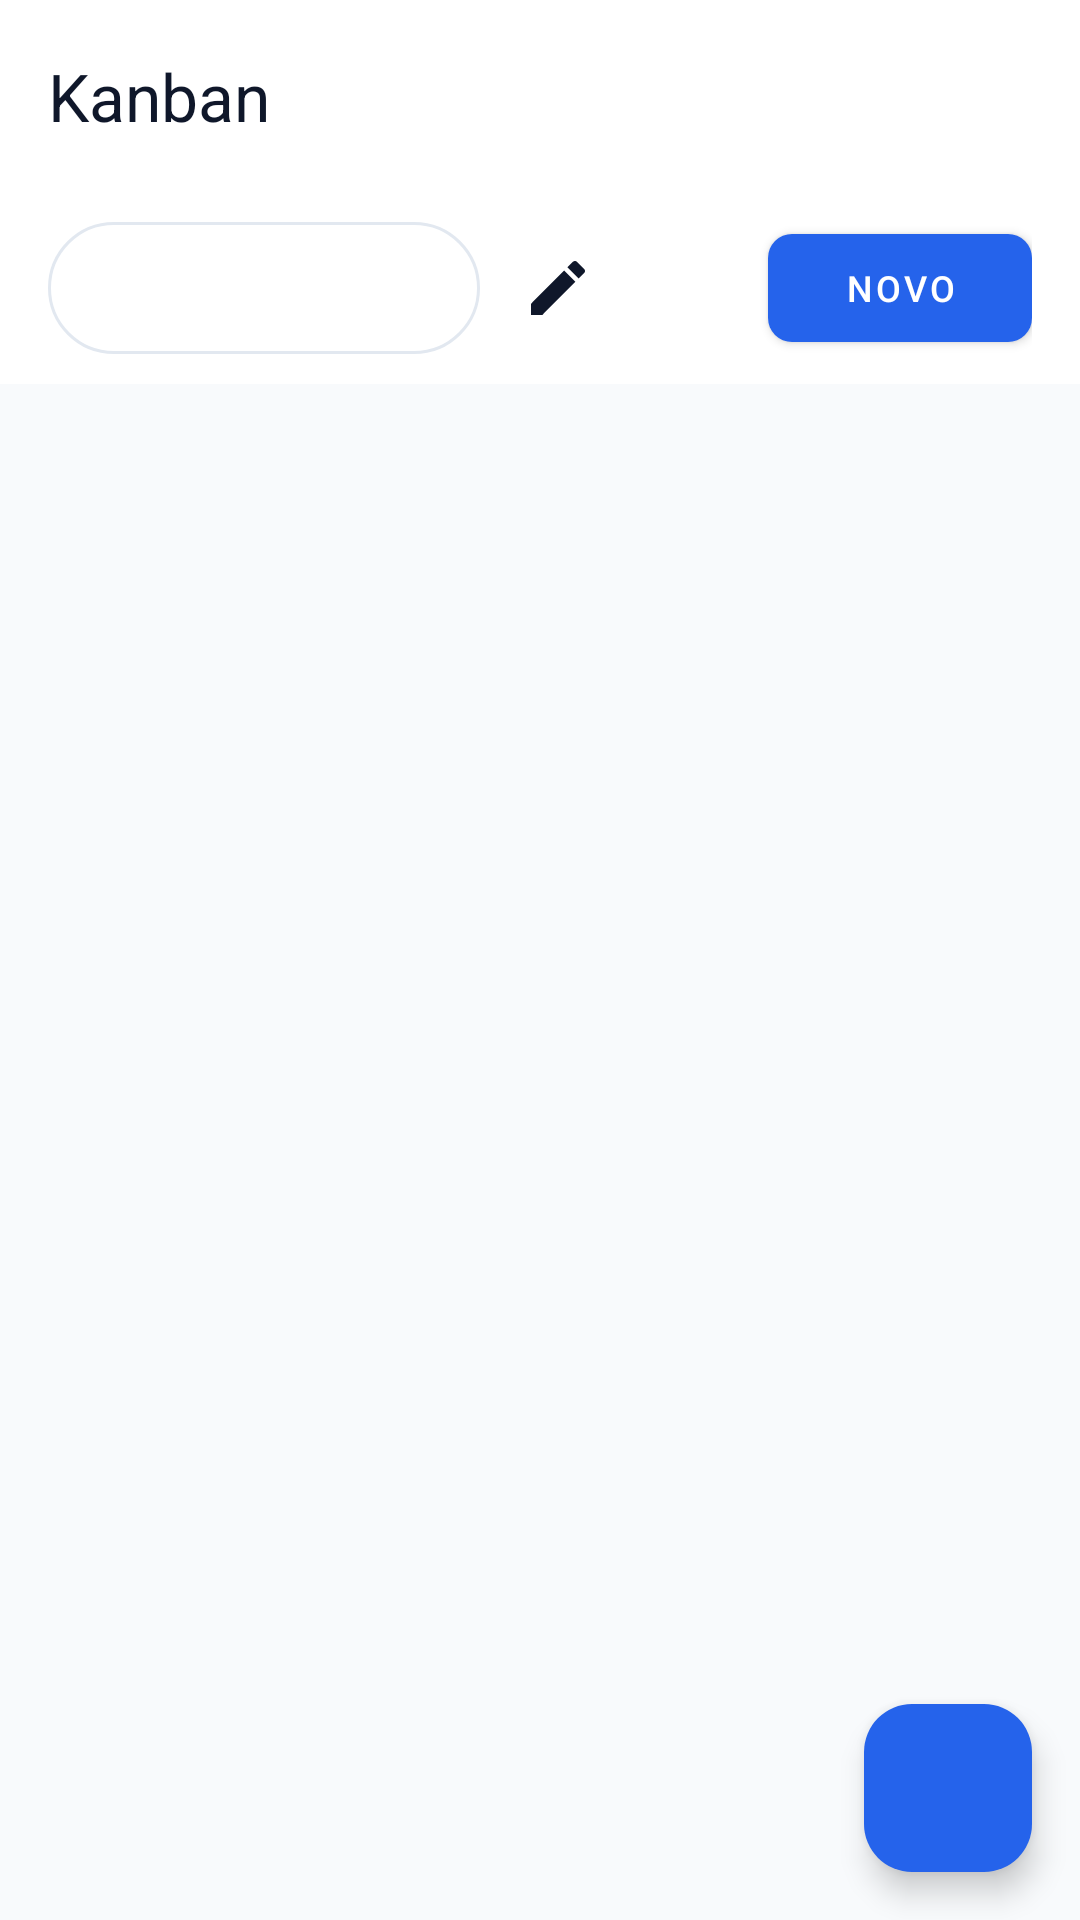

Screen size 1080px×1920px. Icon name, then its center in pixels as (x,y):
Editar Quadro: (558,288)
